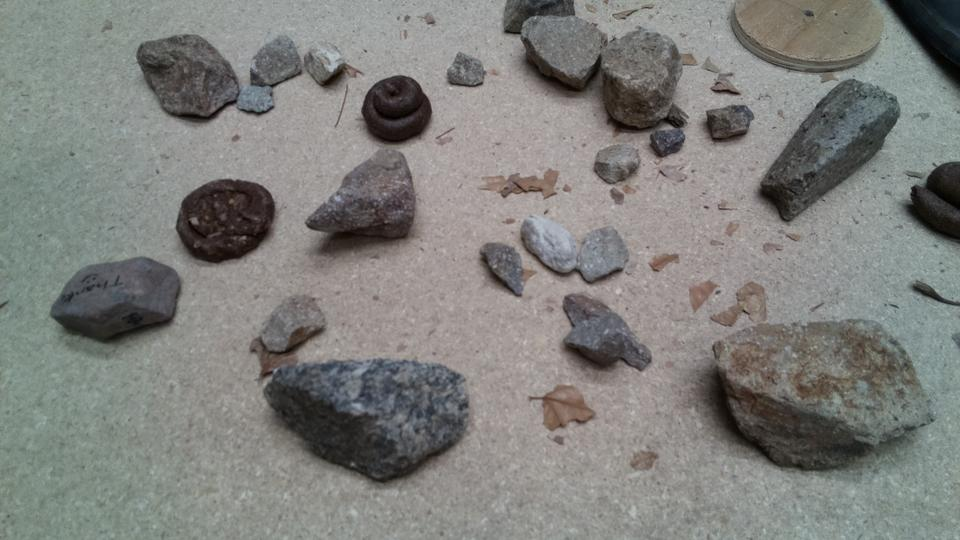poop: (174, 177, 276, 263), (361, 73, 434, 145), (908, 155, 960, 240)
